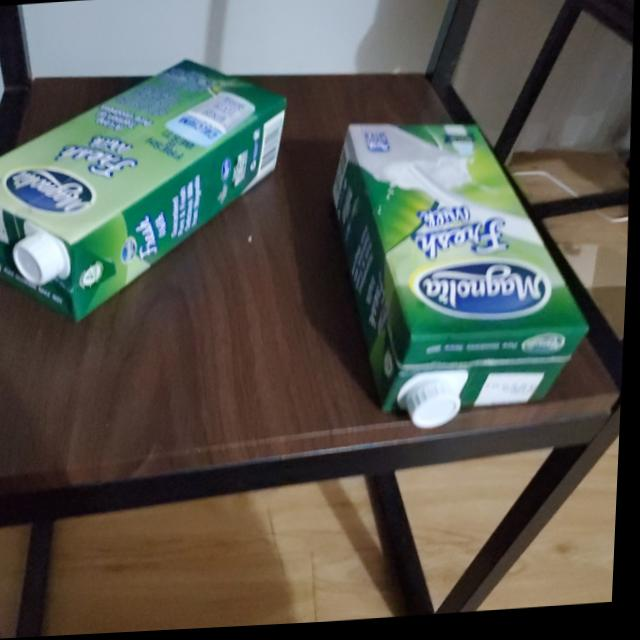milk: (319, 109, 603, 439), (0, 50, 297, 324)
